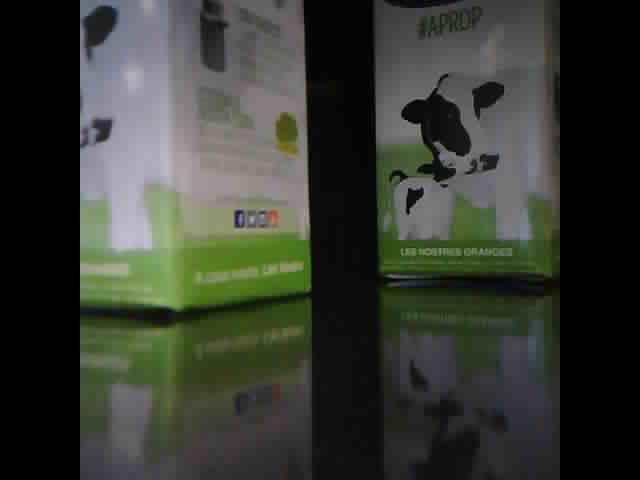leche: (82, 4, 310, 314), (374, 4, 559, 281)
